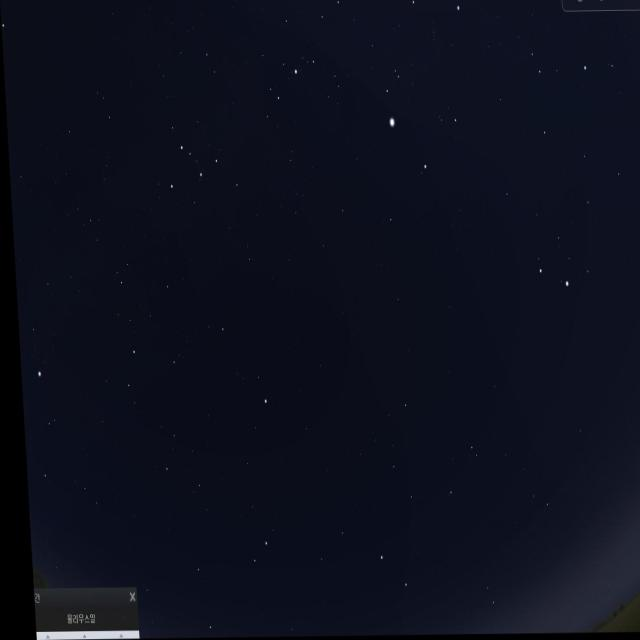cassiopeia: (152, 117, 256, 210)
